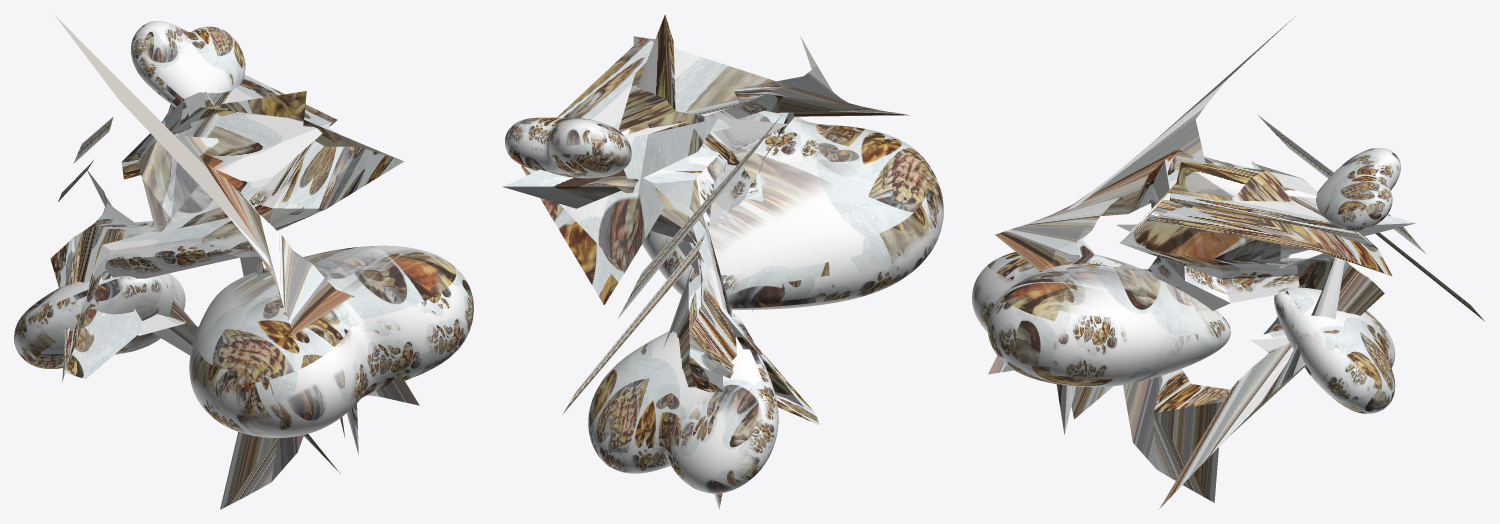
Rendered from midmid2.glb.
3 views of the same model, side by side, from view 1: azimuth 30°, elevation 25°; view 2: azimuth 150°, elevation 25°; view 3: azimuth 270°, elevation 25° (orthographic). The views are drawn at different scales.
Visible parts, largest first — view 1: Plane, 12190_Heart_v1_L3, 12190_Heart_v1_L3.002, 12190_Heart_v1_L3.001; view 2: Plane, 12190_Heart_v1_L3, 12190_Heart_v1_L3.002, 12190_Heart_v1_L3.001; view 3: Plane, 12190_Heart_v1_L3, 12190_Heart_v1_L3.002, 12190_Heart_v1_L3.001.
Boxes of the visible parts, <box> form: Plane: <box>50,14,419,509</box>; 12190_Heart_v1_L3: <box>189,245,473,437</box>; 12190_Heart_v1_L3.002: <box>14,273,185,368</box>; 12190_Heart_v1_L3.001: <box>131,21,245,108</box>; Plane: <box>502,14,909,509</box>; 12190_Heart_v1_L3: <box>642,110,943,309</box>; 12190_Heart_v1_L3.002: <box>588,312,778,493</box>; 12190_Heart_v1_L3.001: <box>505,117,631,178</box>; Plane: <box>988,16,1484,509</box>; 12190_Heart_v1_L3: <box>972,252,1230,387</box>; 12190_Heart_v1_L3.002: <box>1274,287,1395,413</box>; 12190_Heart_v1_L3.001: <box>1316,148,1400,231</box>.
Size of the model in its own units: 5.71 by 9.46 by 10.08.
Materials: 1 (1 with a texture image).
